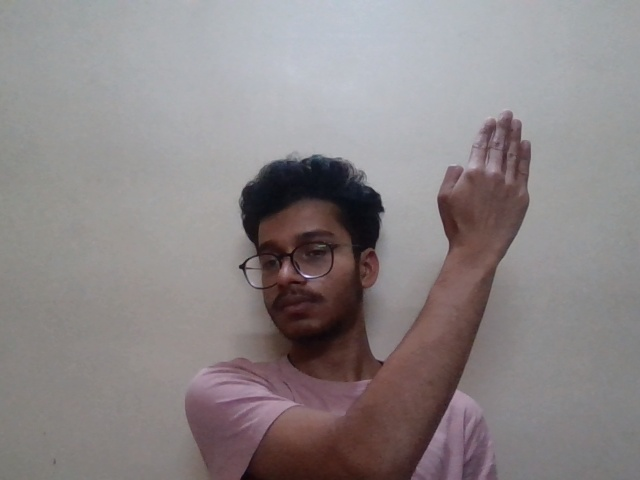good-bye: (435, 104, 555, 282)
